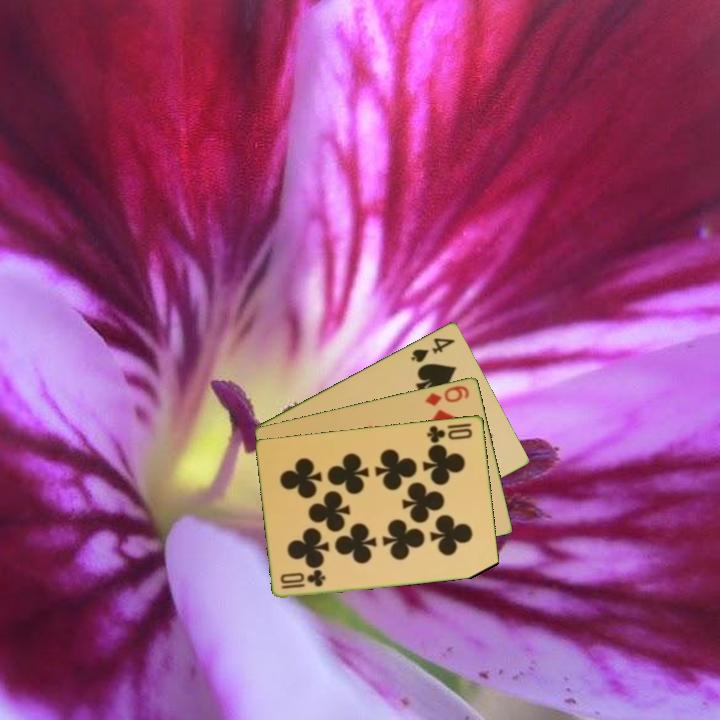10c: (424, 419, 475, 446), (278, 568, 329, 591)
4s: (407, 334, 458, 365)
6d: (422, 381, 472, 409)
